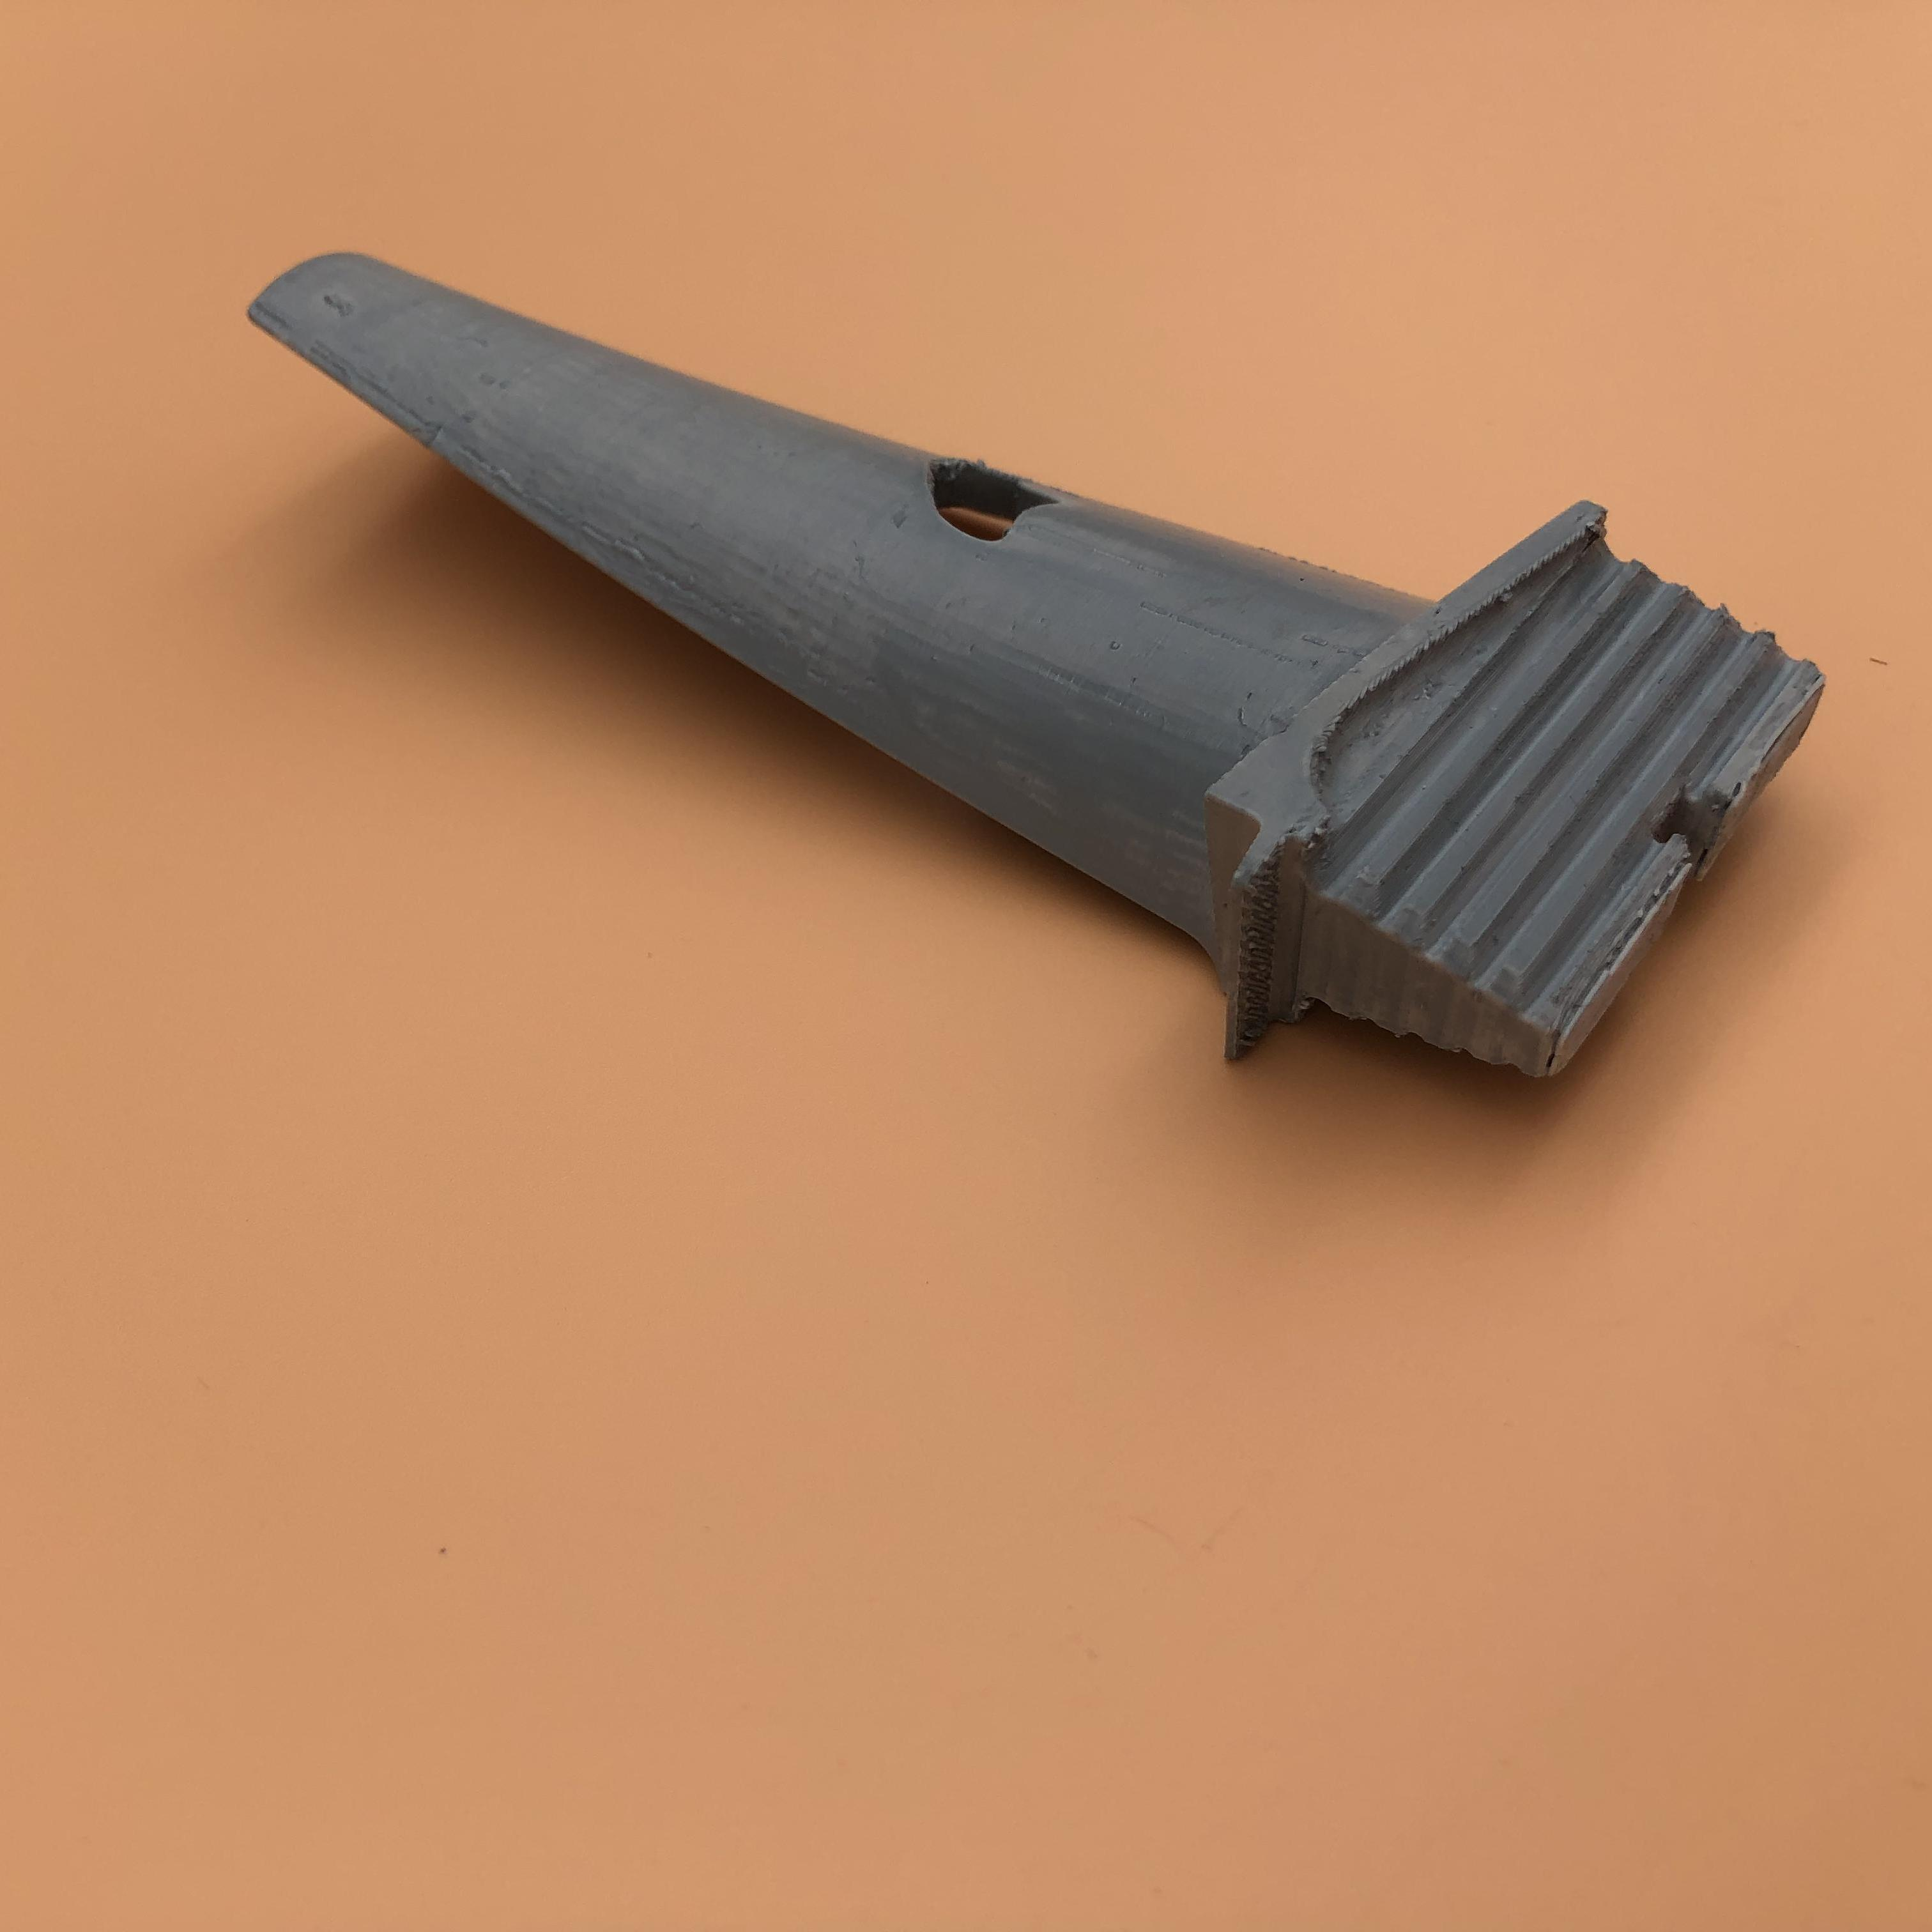breakdown: (916, 449, 1077, 541)
